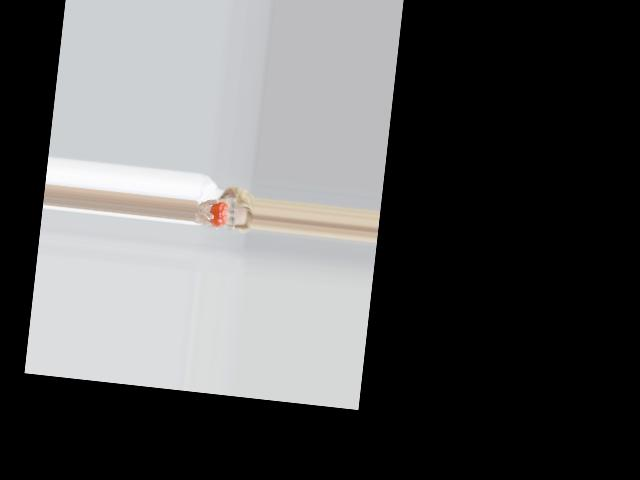tomato: (208, 199, 228, 226)
